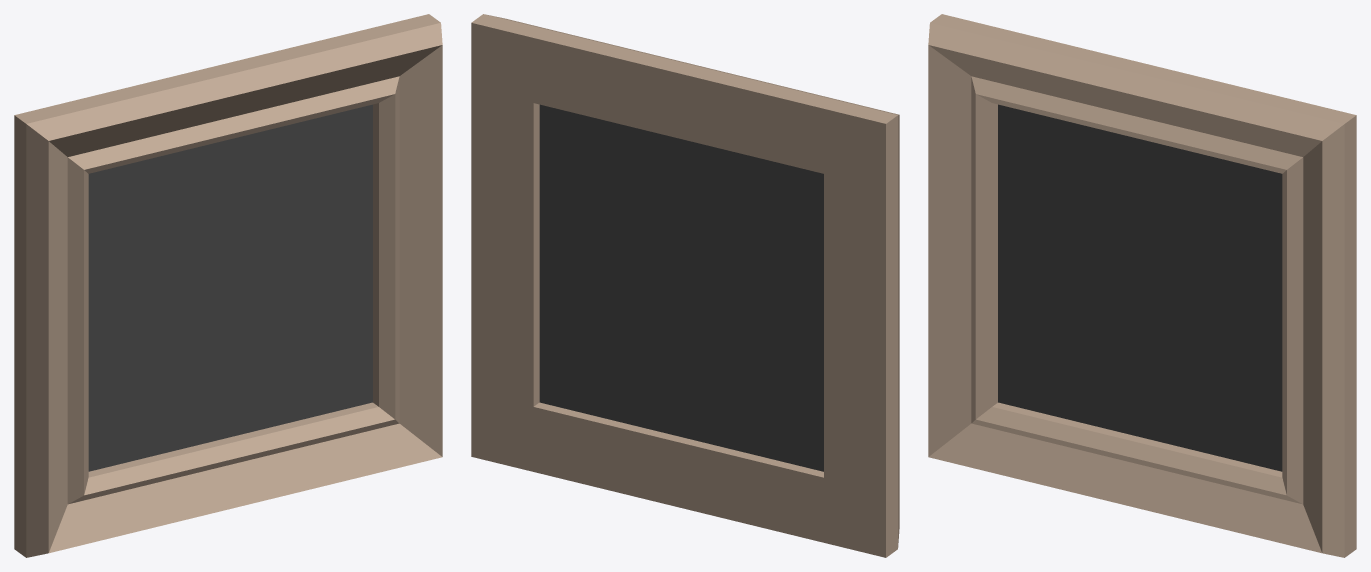
The model's file is Prop_Misc_Picture_Square_Small.fbx.
3 renders of one model, left to right at view 1: azimuth 30°, elevation 25°; view 2: azimuth 150°, elevation 25°; view 3: azimuth 330°, elevation 25°, orthographic.
Parts seen in each view (by area): view 1: object2.033, object1.048; view 2: object2.033, object1.048; view 3: object2.033, object1.048.
Boxes of the visible parts, bbox=[...] form: object2.033: bbox=[14, 14, 442, 557]; object1.048: bbox=[88, 104, 372, 471]; object2.033: bbox=[471, 14, 899, 557]; object1.048: bbox=[539, 104, 823, 471]; object2.033: bbox=[928, 14, 1356, 557]; object1.048: bbox=[998, 104, 1282, 471].
Bounding box in the file's own units: 50 × 50 × 5.
